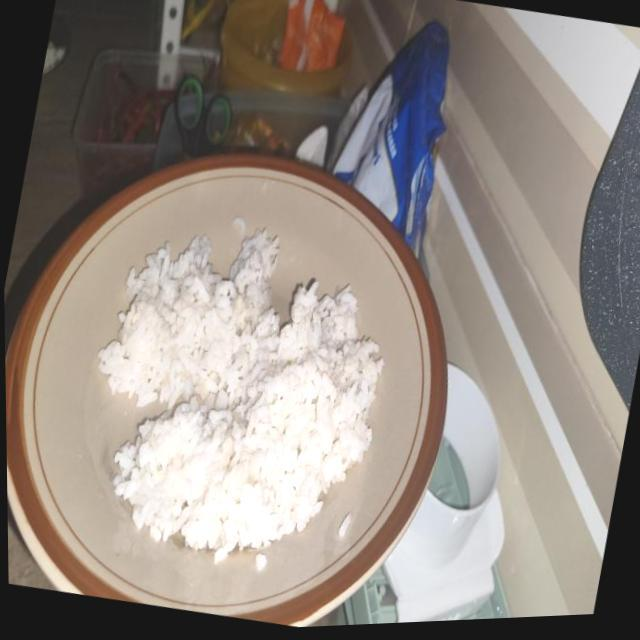nasi_putih: (98, 230, 384, 564)
